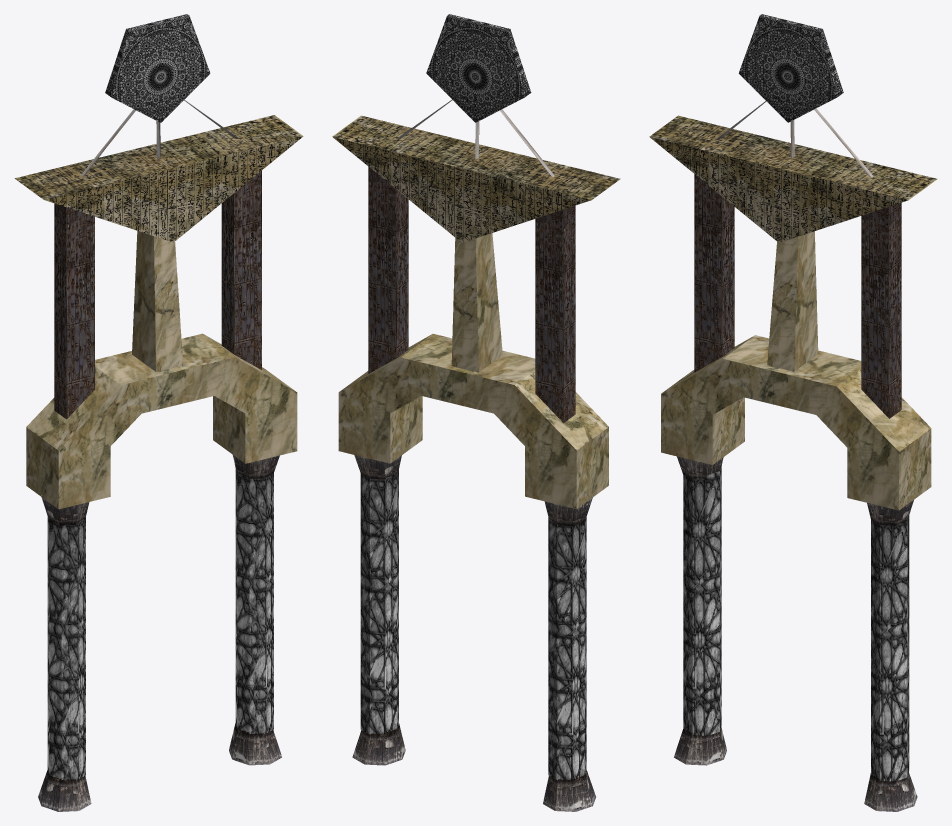
File: ARCH2.fbx
The picture shows the model from 3 angles, left to right: view 1: azimuth 30°, elevation 25°; view 2: azimuth 150°, elevation 25°; view 3: azimuth 330°, elevation 25°; orthographic projection.
Visible parts, largest first — view 1: Mesh1; view 2: Mesh1; view 3: Mesh1.
Boxes of the visible parts, <box> form: Mesh1: <box>14,14,303,811</box>; Mesh1: <box>332,14,620,811</box>; Mesh1: <box>649,14,937,811</box>.
Bounding box in the file's own units: 8.75 × 24.31 × 1.89.
